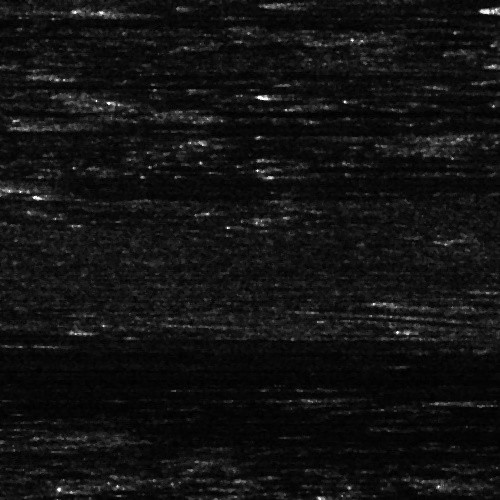object: (108, 101, 305, 118), (0, 171, 78, 192), (89, 3, 182, 14), (3, 117, 96, 128), (230, 89, 323, 98), (2, 189, 85, 196), (23, 71, 96, 78)
shadow: (0, 171, 317, 192), (207, 101, 462, 118), (136, 3, 461, 14), (43, 189, 367, 196), (0, 17, 338, 22), (277, 89, 449, 98), (49, 117, 132, 128), (60, 71, 142, 78), (0, 385, 19, 398)
